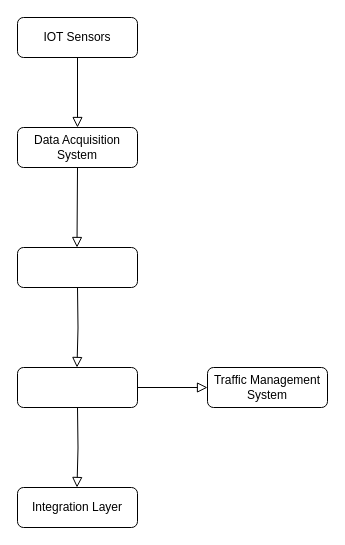
Some shapes in this 345 by 545 pixel diagram are drawn without their labels. The shapes that lost their labels are listed below. From the top down, each one's centre as x and y in pixels, then its label:
At (x=77, y=267): "Data Processing Module".
At (x=77, y=387): "Machine Learning Models".
